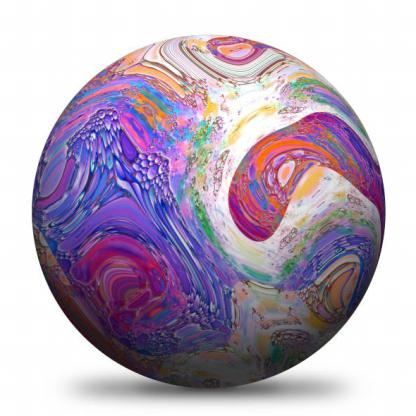Metamorphic_Marble: (26, 25, 397, 392)
